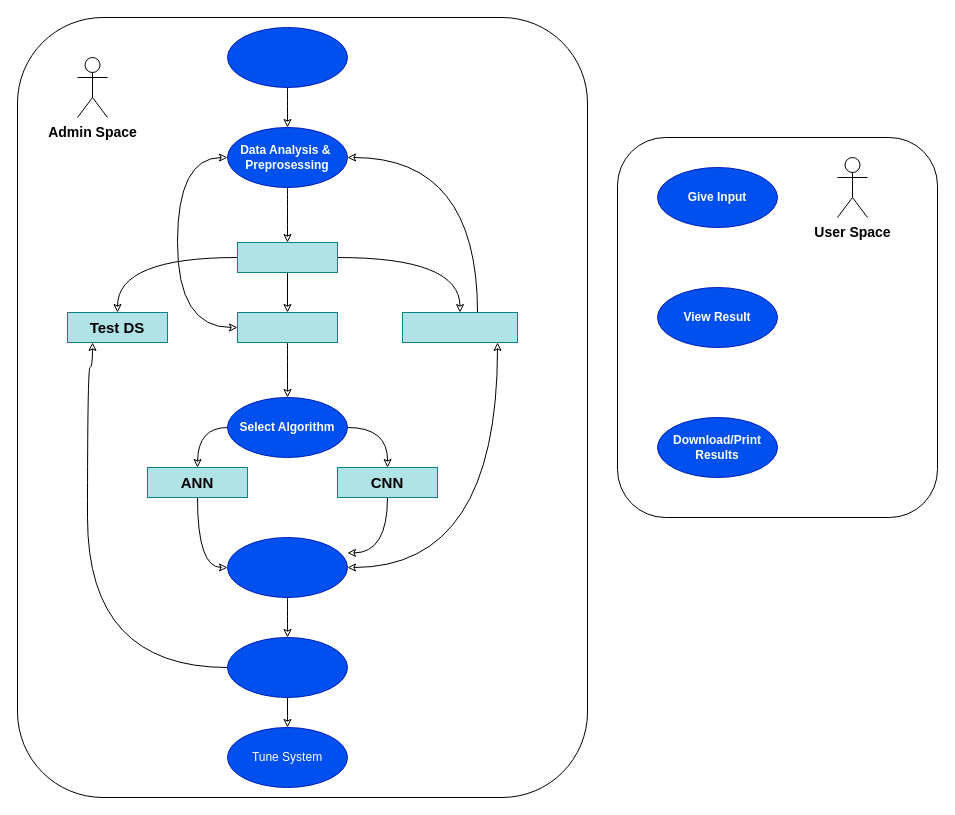
This 955x815 diagram has some shape labels left out. Here are the shapes that lost their labels. From the top down, the box of each, then its label:
(226, 26, 348, 88): Collect Dataset
(236, 242, 338, 272): Dataset
(236, 312, 338, 342): Training DS
(402, 312, 518, 342): Validation DS
(226, 536, 348, 598): Build System
(226, 636, 348, 698): Test System
